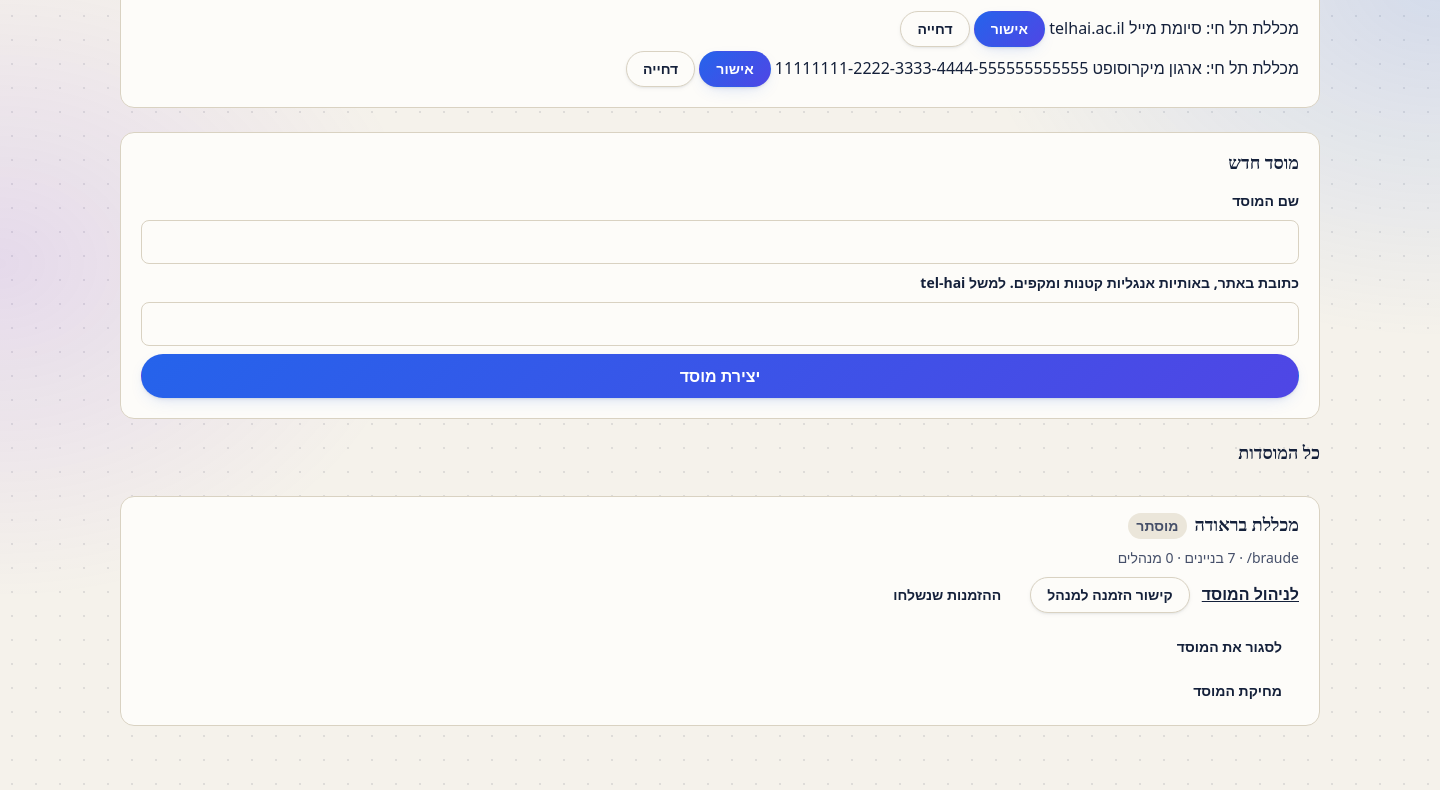
Test: SystemPage › shows a new invite link once, with the token after "#"
(page scrolled)
Click the button "קישור הזמנה למנהל": (1110, 595) [1030,577,1190,613]
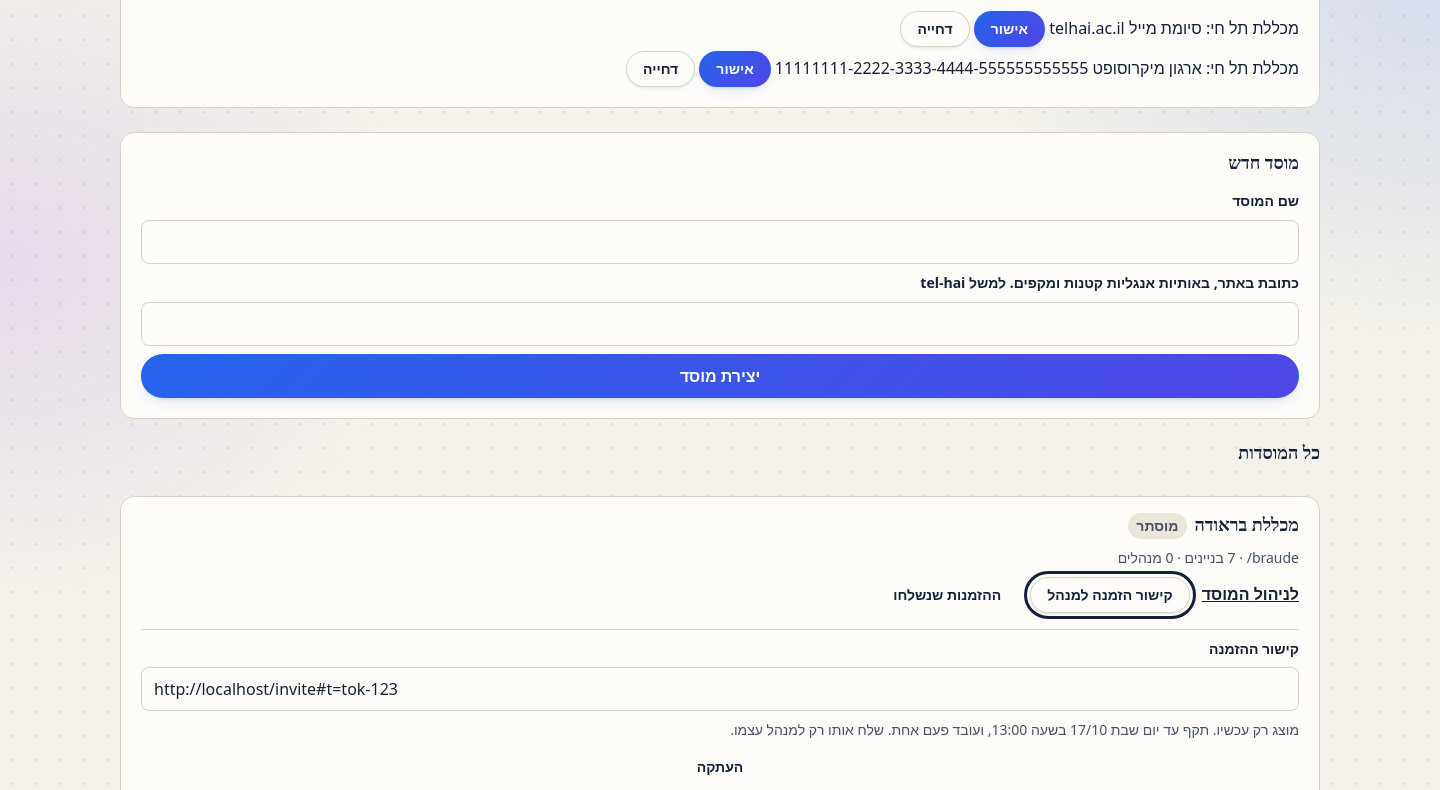
Expected: the text "תקף עד" is shown, [1160,720,1299,739]
